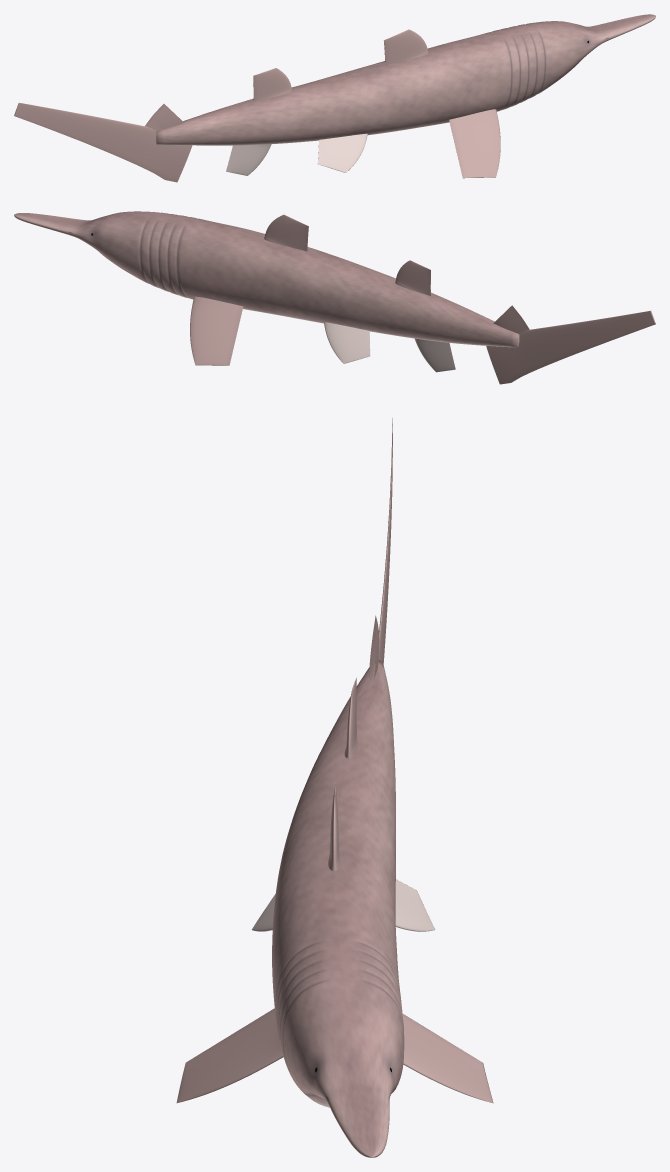
Rendered from goblin_shark.glb.
3 renders of one model, top to bottom at view 1: azimuth 30°, elevation 25°; view 2: azimuth 150°, elevation 25°; view 3: azimuth 270°, elevation 25°, orthographic. The views are drawn at different scales.
Visible parts, largest first — view 1: GoblinShark_Body, GoblinShark_Fins; view 2: GoblinShark_Body, GoblinShark_Fins; view 3: GoblinShark_Body, GoblinShark_Fins.
Boxes of the visible parts, x1,y1,x2,y2 form: GoblinShark_Body: [156, 14, 655, 145]; GoblinShark_Fins: [14, 29, 500, 182]; GoblinShark_Body: [14, 211, 519, 347]; GoblinShark_Fins: [190, 214, 655, 384]; GoblinShark_Body: [272, 660, 404, 1157]; GoblinShark_Fins: [176, 418, 493, 1103].
Size of the model in its own units: 3.5 by 0.7279 by 0.7547.
Materials: 3 (1 with a texture image).
